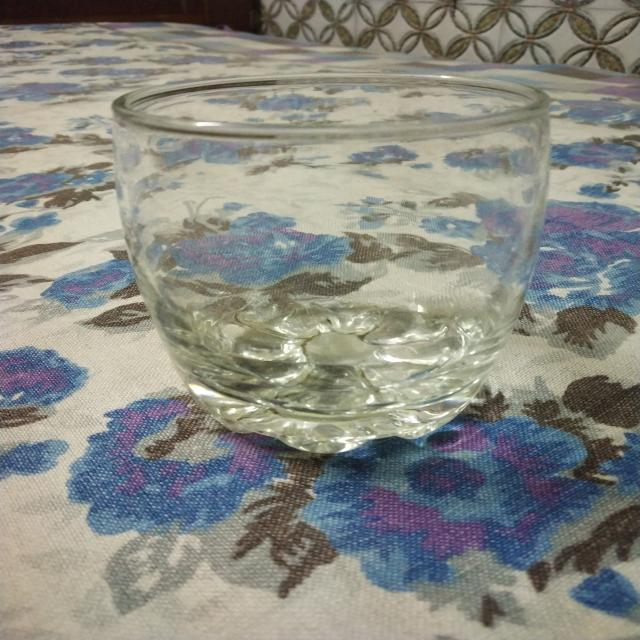Glass: (108, 69, 560, 458)
